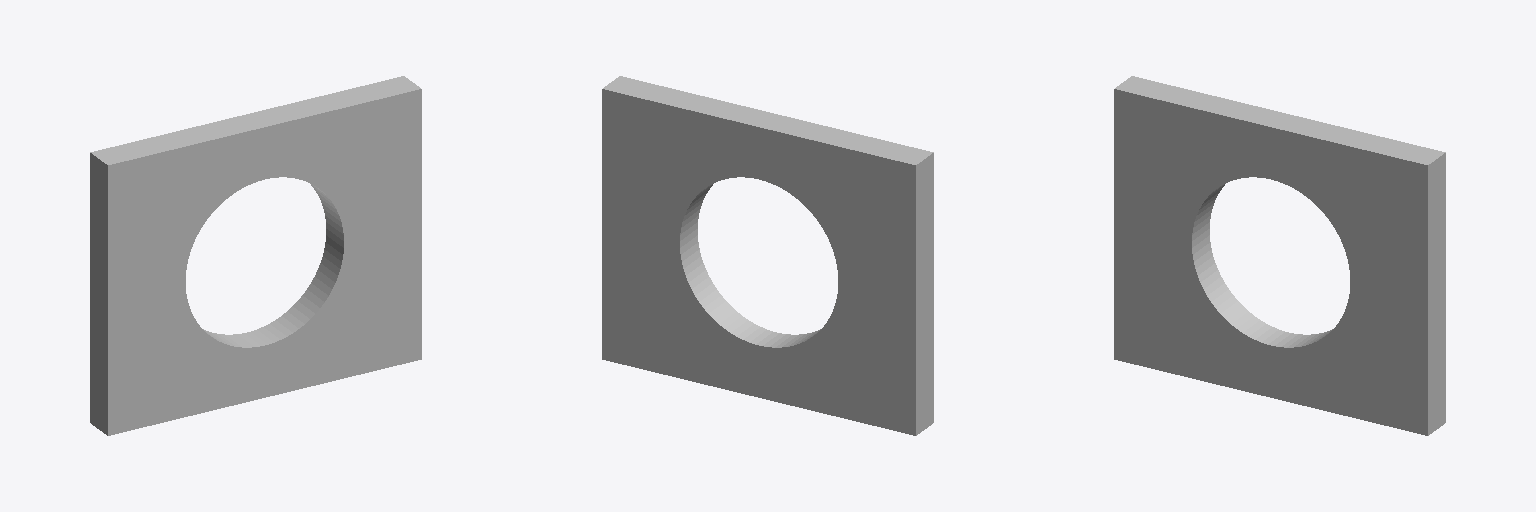
Rendered from 2inNewShamrockBox_resized.obj.
3 renders of one model, left to right at view 1: azimuth 30°, elevation 25°; view 2: azimuth 150°, elevation 25°; view 3: azimuth 330°, elevation 25°, orthographic.
Bounding box in the file's own units: 0.1016 × 0.0837 × 0.01.